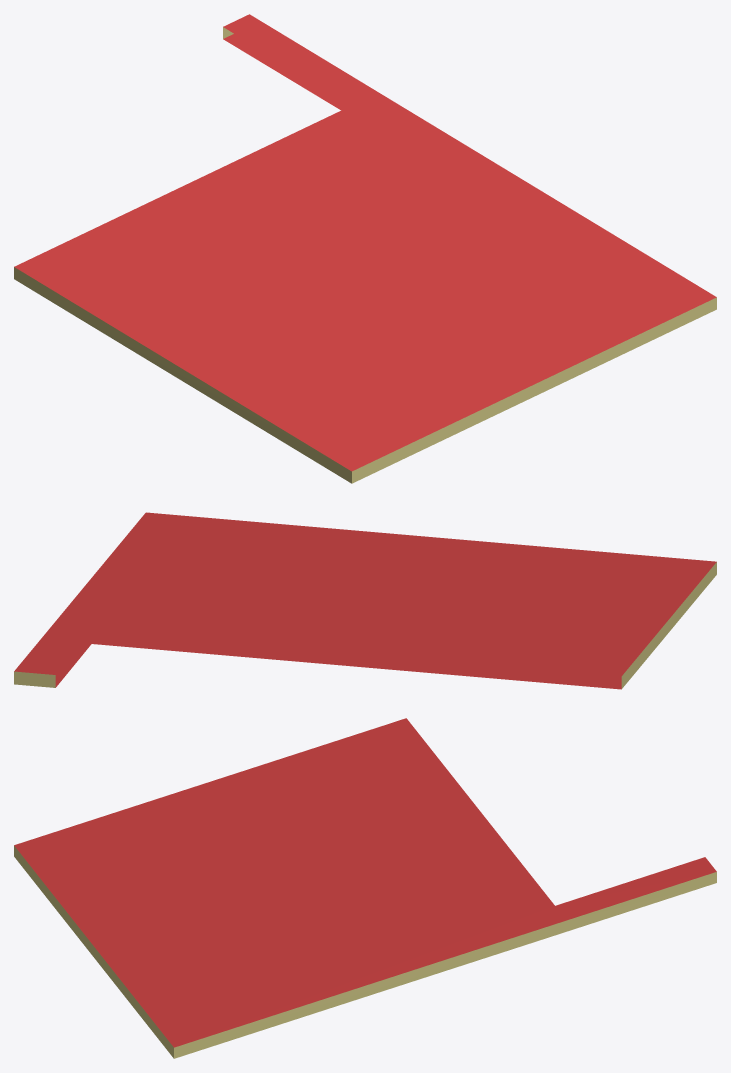
3 views of the same model, one above another, from view 1: azimuth 30°, elevation 25°; view 2: azimuth 150°, elevation 25°; view 3: azimuth 270°, elevation 25° (orthographic). The views are drawn at different scales.
Size of the model in its own units: 4.93 by 5.68 by 0.985.
